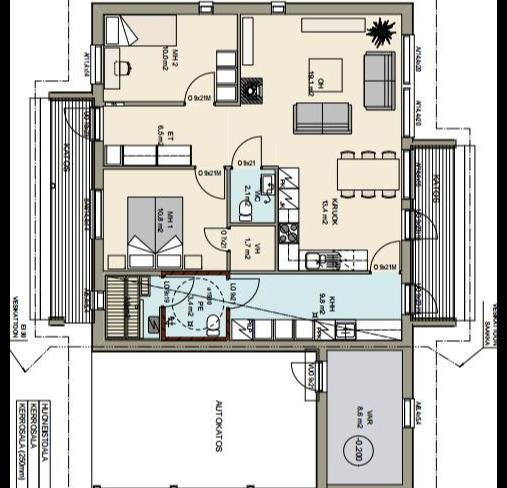bathroom: (164, 274, 230, 338), (230, 168, 275, 224)
door: (190, 162, 228, 200), (368, 236, 405, 274), (62, 103, 97, 142), (224, 275, 262, 310), (401, 207, 441, 240), (291, 356, 327, 392), (180, 70, 215, 107), (230, 132, 264, 170), (159, 275, 199, 307), (405, 281, 438, 314), (202, 224, 231, 253)
perimeter: (90, 1, 414, 488)
window: (82, 42, 104, 89), (400, 28, 416, 87), (400, 148, 416, 204), (400, 84, 416, 138), (90, 184, 104, 243), (400, 394, 416, 431), (88, 286, 107, 312), (195, 0, 215, 18), (269, 0, 288, 17)
